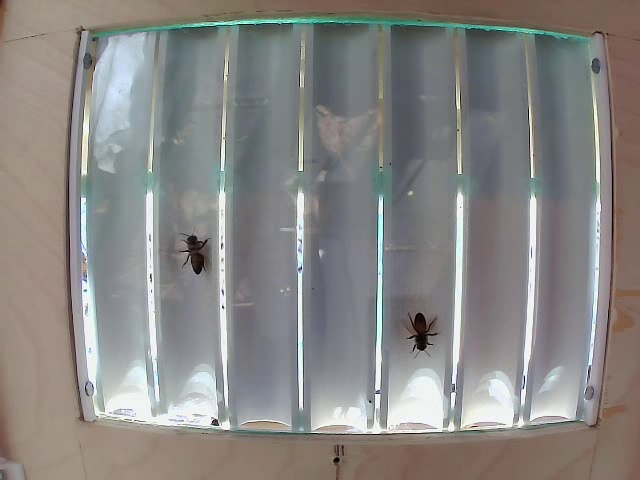bee: (187, 218, 218, 277), (403, 310, 439, 353)
